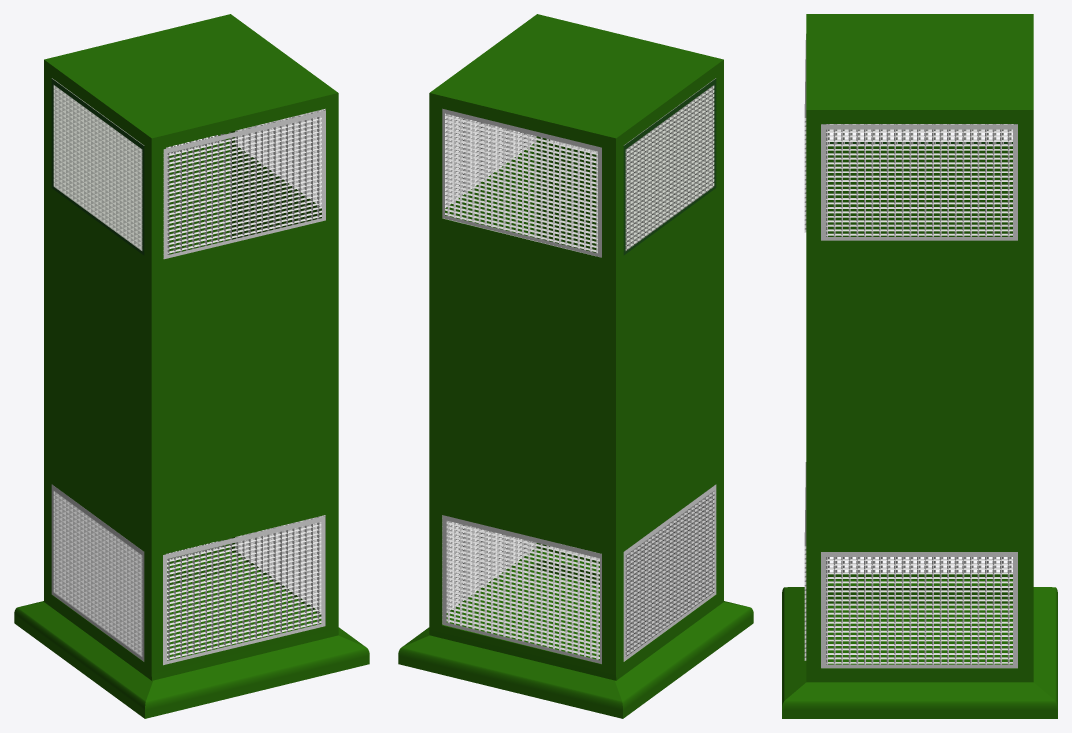
Rendered from Water Purifier Green.glb.
3 renders of one model, left to right at view 1: azimuth 30°, elevation 25°; view 2: azimuth 150°, elevation 25°; view 3: azimuth 270°, elevation 25°, orthographic. The views are drawn at different scales.
Visible parts, largest first — view 1: Cube, Plane.007, Plane.022, Plane.001, Plane.006, Plane.008, Plane.023, Plane.012, Plane.003, Plane.005, Plane.002; view 2: Cube, Plane.021, Plane.025, Plane.001, Plane.006, Plane.012, Plane.010, Plane.024, Plane.003, Plane.005, Plane.002; view 3: Cube, Plane.012, Plane.003, Plane.004, Plane.011, Plane.001, Plane.006, Plane.007, Plane.022.
Part boxes in pixels (x1,y1,x2,y2): Cube: [14, 14, 369, 718]; Plane.007: [167, 515, 325, 660]; Plane.022: [167, 109, 325, 254]; Plane.001: [52, 78, 144, 250]; Plane.006: [52, 484, 142, 656]; Plane.008: [163, 516, 325, 665]; Plane.023: [163, 110, 325, 259]; Plane.012: [235, 108, 325, 206]; Plane.003: [235, 515, 325, 612]; Plane.005: [51, 484, 144, 661]; Plane.002: [51, 78, 144, 255]; Cube: [398, 14, 753, 718]; Plane.021: [442, 515, 599, 659]; Plane.025: [443, 114, 597, 256]; Plane.001: [623, 78, 715, 250]; Plane.006: [625, 484, 715, 656]; Plane.012: [445, 113, 534, 207]; Plane.010: [442, 515, 601, 663]; Plane.024: [442, 108, 601, 257]; Plane.003: [446, 520, 534, 610]; Plane.005: [623, 484, 716, 661]; Plane.002: [623, 78, 716, 255]; Cube: [782, 14, 1057, 718]; Plane.012: [826, 124, 1015, 236]; Plane.003: [826, 557, 1012, 664]; Plane.004: [821, 552, 1017, 668]; Plane.011: [821, 124, 1017, 240]; Plane.001: [828, 124, 1017, 144]; Plane.006: [828, 557, 1012, 572]; Plane.007: [804, 462, 806, 660]; Plane.022: [804, 34, 806, 232].
Size of what is drawn, in the model's own units: 1.2 by 2.89 by 1.21.
